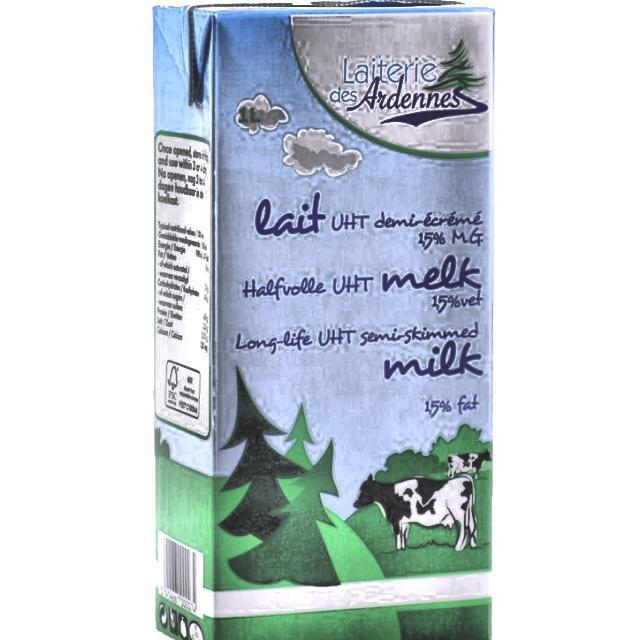cardboard: (151, 0, 495, 640)
